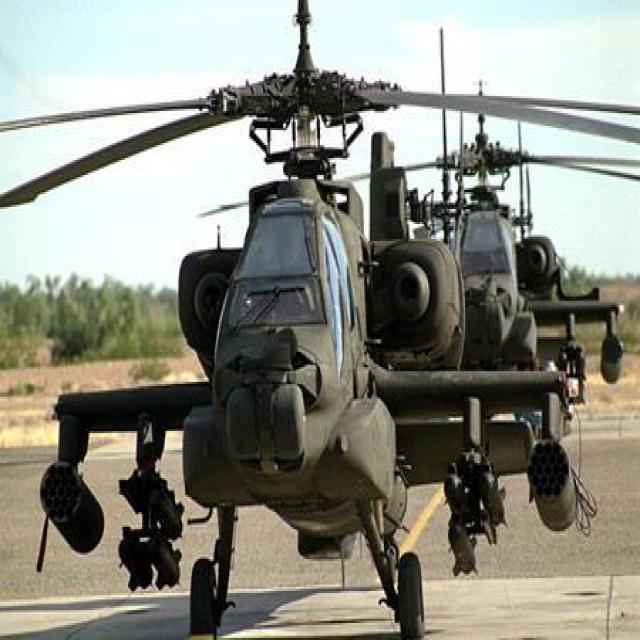MIL_HELO: (0, 4, 640, 625), (392, 120, 584, 354)
